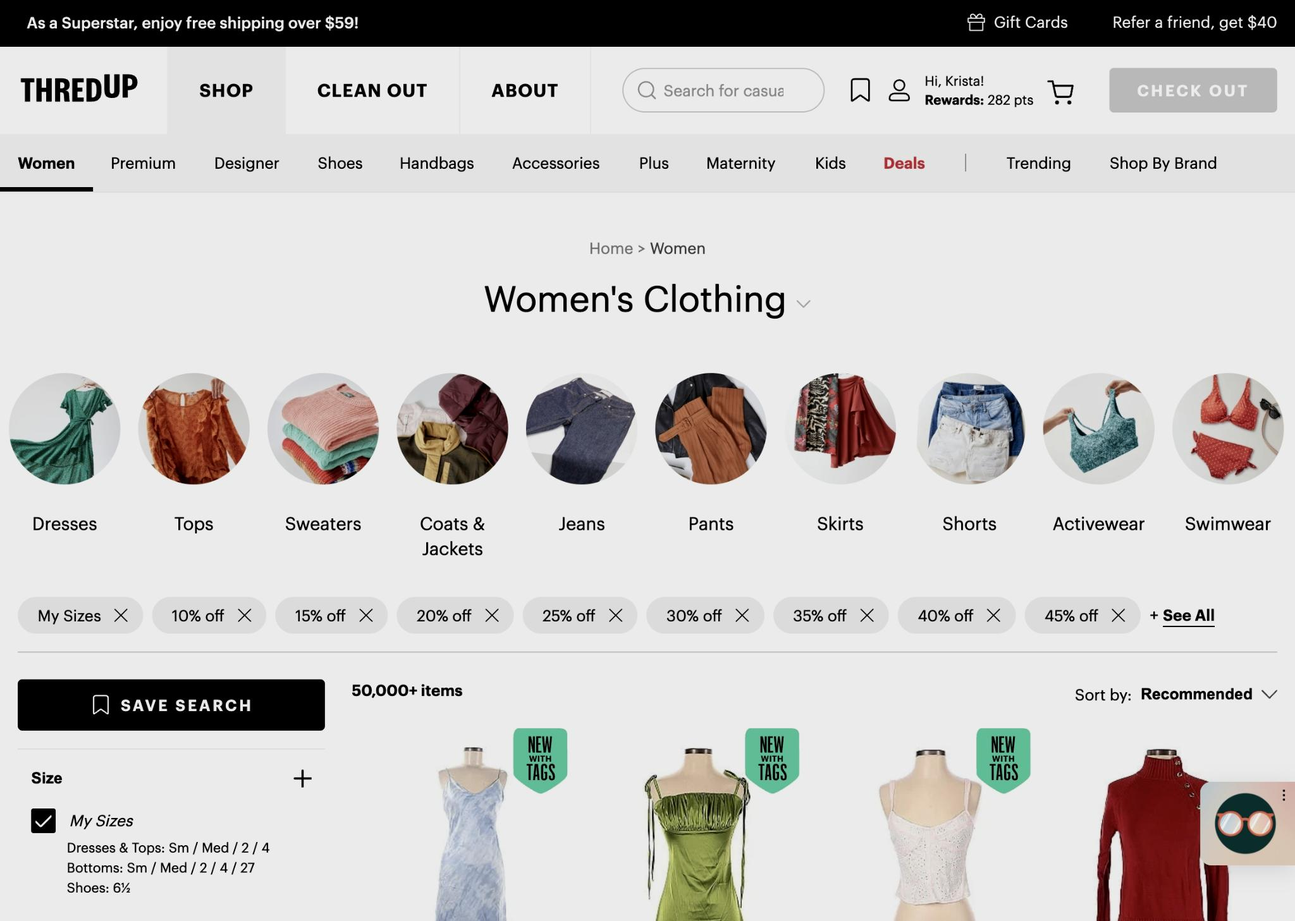webelement: (996, 218, 1249, 472), (17, 748, 324, 921), (355, 722, 578, 921), (586, 722, 809, 921), (818, 722, 1041, 921), (1049, 722, 1272, 921), (17, 0, 849, 43), (486, 415, 807, 506), (137, 346, 249, 578), (654, 346, 766, 578), (783, 346, 895, 578), (8, 346, 119, 578), (266, 346, 377, 578), (396, 346, 507, 578), (525, 346, 636, 578), (913, 346, 1024, 578), (1042, 346, 1153, 578), (1171, 346, 1282, 578), (465, 277, 828, 337), (17, 679, 324, 730), (1080, 278, 1290, 350), (17, 0, 366, 43), (872, 278, 1080, 350), (285, 46, 458, 132), (75, 749, 324, 806), (137, 372, 249, 484), (654, 372, 766, 484), (783, 372, 895, 484), (8, 372, 119, 484), (266, 372, 377, 484), (396, 372, 507, 484), (525, 372, 636, 484), (913, 372, 1024, 484), (1042, 372, 1153, 484), (1171, 372, 1282, 484), (458, 46, 590, 132), (44, 594, 218, 655), (915, 136, 1018, 239), (166, 46, 285, 132), (1054, 165, 1246, 216), (622, 67, 824, 111), (1091, 133, 1233, 191), (1108, 67, 1276, 111), (493, 133, 616, 191), (30, 807, 311, 832), (381, 133, 491, 191), (688, 133, 792, 191), (26, 12, 358, 30), (92, 133, 193, 191), (195, 133, 295, 191), (988, 133, 1088, 191), (755, 558, 942, 588), (0, 133, 91, 191), (44, 253, 219, 283), (44, 389, 209, 419), (66, 877, 311, 897), (66, 837, 311, 856), (66, 857, 311, 876), (299, 133, 379, 191), (17, 596, 141, 633), (44, 321, 195, 351), (44, 525, 194, 555), (506, 727, 573, 793), (738, 727, 805, 793), (968, 727, 1035, 793), (897, 596, 1015, 633), (755, 388, 900, 418), (646, 596, 763, 633), (396, 596, 512, 633), (772, 596, 888, 633), (1023, 596, 1139, 633), (151, 596, 265, 633), (522, 596, 636, 633), (274, 596, 387, 633), (43, 560, 179, 589), (796, 133, 862, 191), (621, 133, 686, 191), (754, 354, 875, 384), (754, 287, 873, 316), (273, 388, 388, 418), (17, 73, 139, 101), (17, 747, 74, 806), (44, 354, 155, 384), (44, 491, 152, 521), (579, 12, 758, 30), (44, 457, 146, 486), (44, 218, 138, 248), (1214, 760, 1267, 813), (1112, 13, 1276, 30), (44, 424, 135, 454), (755, 490, 841, 520), (414, 287, 502, 316), (755, 457, 840, 486), (1140, 685, 1276, 703), (273, 593, 354, 622), (273, 252, 351, 282), (273, 558, 349, 588), (907, 369, 1005, 392), (907, 464, 1005, 487), (415, 252, 489, 282), (44, 287, 120, 316), (924, 89, 1033, 109), (755, 525, 824, 555), (273, 354, 340, 384), (555, 287, 624, 316), (924, 69, 1013, 89), (762, 12, 841, 33), (273, 287, 330, 316), (754, 320, 807, 350), (555, 320, 607, 350), (755, 423, 807, 452), (907, 533, 972, 556), (273, 525, 321, 555), (499, 12, 578, 30), (755, 252, 802, 282), (415, 320, 459, 350), (907, 432, 963, 455), (993, 13, 1067, 30), (1075, 683, 1131, 705), (273, 490, 314, 520), (555, 388, 596, 418), (1046, 74, 1085, 105), (273, 423, 314, 452), (273, 457, 313, 486), (649, 237, 704, 258), (907, 400, 957, 423), (1163, 605, 1214, 626), (273, 320, 307, 350), (873, 86, 924, 104), (589, 237, 632, 258), (555, 252, 585, 282), (784, 74, 815, 103), (439, 15, 495, 31), (882, 153, 924, 171), (555, 354, 579, 384), (846, 76, 873, 102), (887, 77, 911, 101), (635, 78, 657, 100), (88, 693, 110, 715), (793, 74, 806, 103), (966, 12, 984, 30), (293, 769, 311, 786), (632, 238, 649, 255), (773, 434, 788, 449), (795, 295, 810, 310), (483, 607, 497, 620), (607, 607, 621, 620), (734, 607, 748, 620), (1111, 607, 1125, 620), (114, 607, 127, 620), (236, 607, 249, 620), (358, 607, 371, 620), (859, 607, 872, 620), (986, 607, 999, 620), (1261, 690, 1276, 698)
